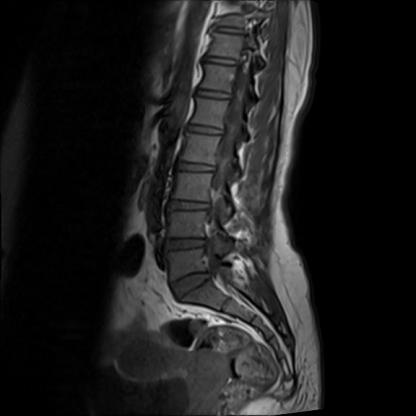Degenerative Disc Diseaserotation: (165, 235, 206, 255)
Disc Herniationrotation: (166, 235, 206, 255)
